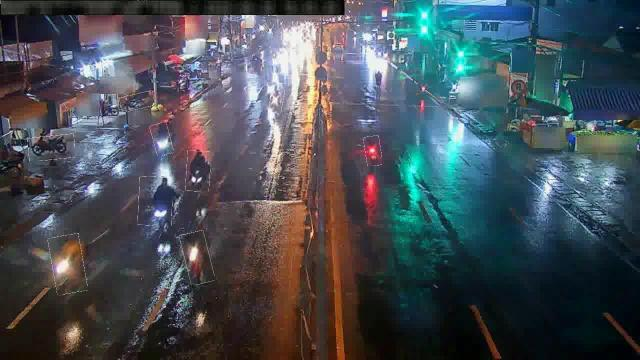Bike: (50, 234, 86, 294), (138, 176, 172, 226), (182, 232, 212, 284), (27, 136, 74, 160), (186, 152, 210, 192), (152, 122, 172, 156), (120, 92, 154, 112), (364, 136, 382, 166), (270, 82, 284, 114), (376, 70, 388, 86)
